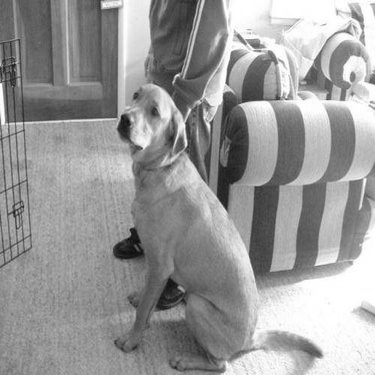dog: (87, 74, 268, 370)
